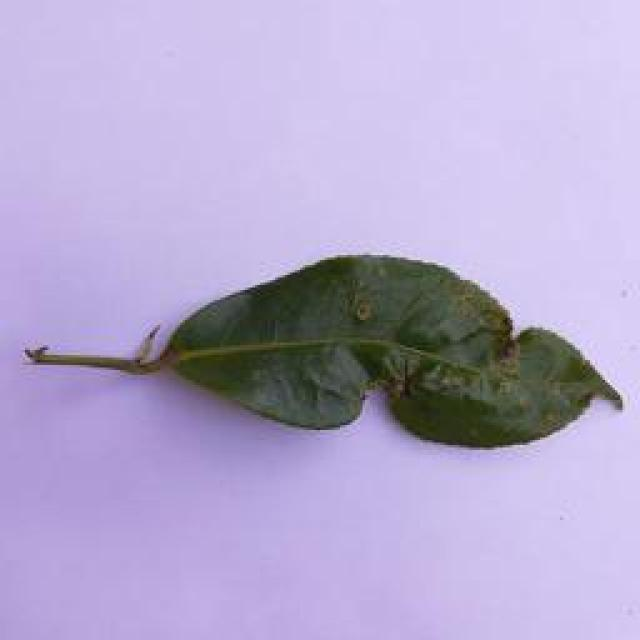Helopeltis: (152, 247, 607, 447)
